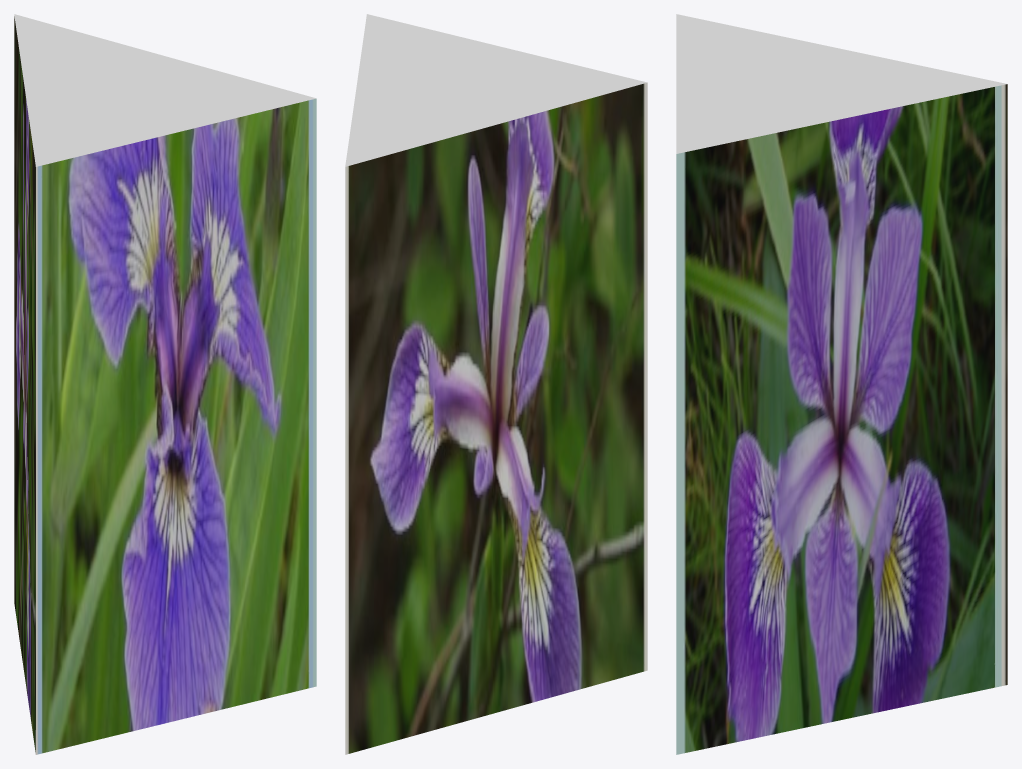
The model's file is Iris.glb.
3 views of the same model, side by side, from view 1: azimuth 30°, elevation 25°; view 2: azimuth 150°, elevation 25°; view 3: azimuth 270°, elevation 25° (orthographic). The views are drawn at different scales.
Parts seen in each view (by area): view 1: Cylinder; view 2: Cylinder; view 3: Cylinder.
Part boxes in pixels (x1,y1,x2,y2): Cylinder: (14,14,316,754); Cylinder: (345,14,647,754); Cylinder: (676,14,1007,754).
Bounding box in the file's own units: 0.5 × 1 × 0.5.
4 materials, 3 textured.
